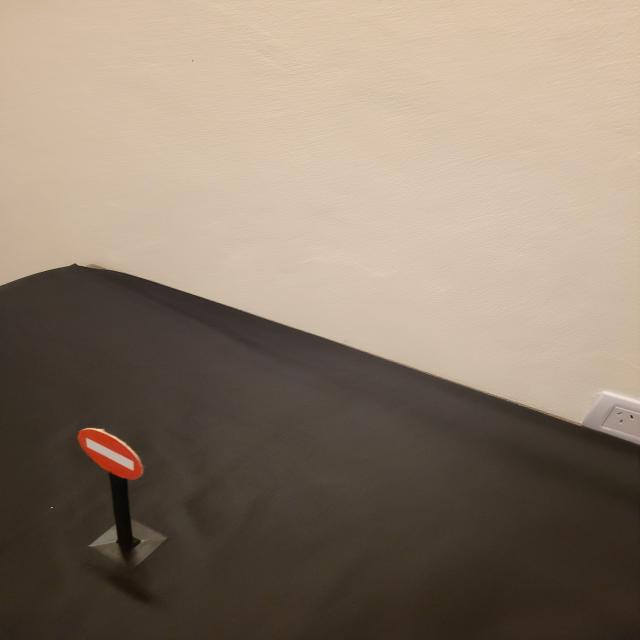no_entry: (77, 427, 145, 481)
